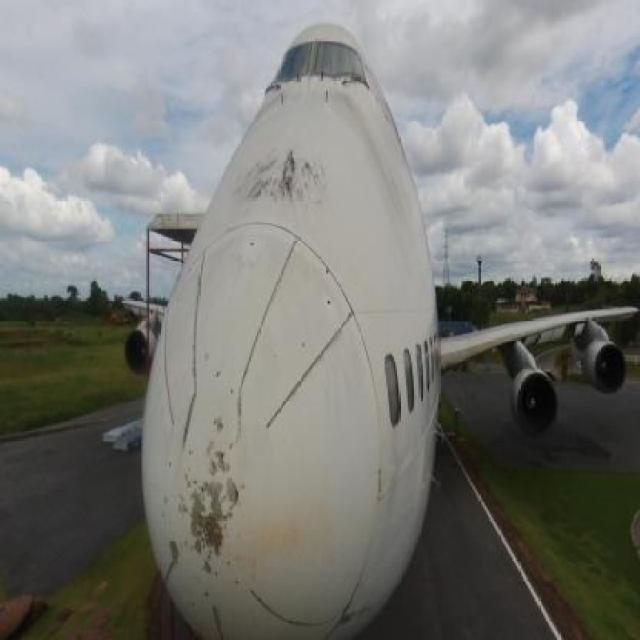Rust: (334, 95, 421, 250), (243, 509, 354, 568), (236, 153, 335, 216), (196, 498, 233, 564)
Scartch: (178, 464, 250, 584), (163, 530, 194, 582), (333, 603, 367, 628)
